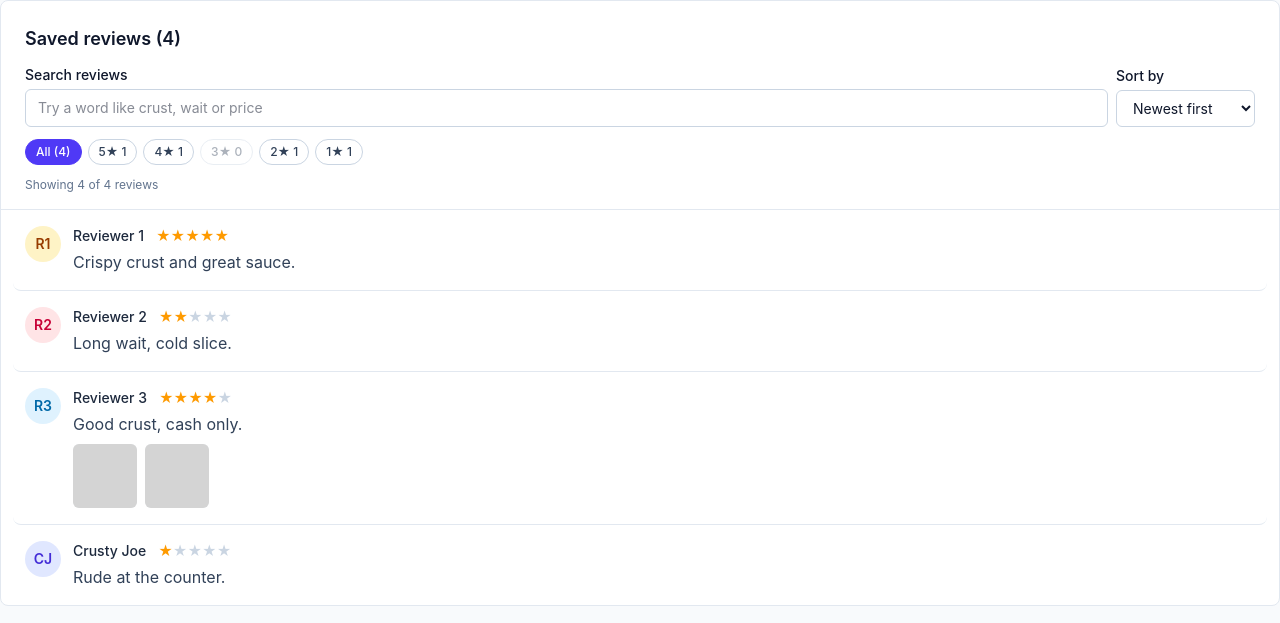
Test: Review explorer › filters by star rating and toggles the filter off
This screenshot has width=1280, height=623.
Check: the text "Showing 4 of 4 reviews" is shown, box [25, 177, 158, 192]
Click the button named "5-star reviews (1)" at point(112, 152), box [88, 139, 138, 165]
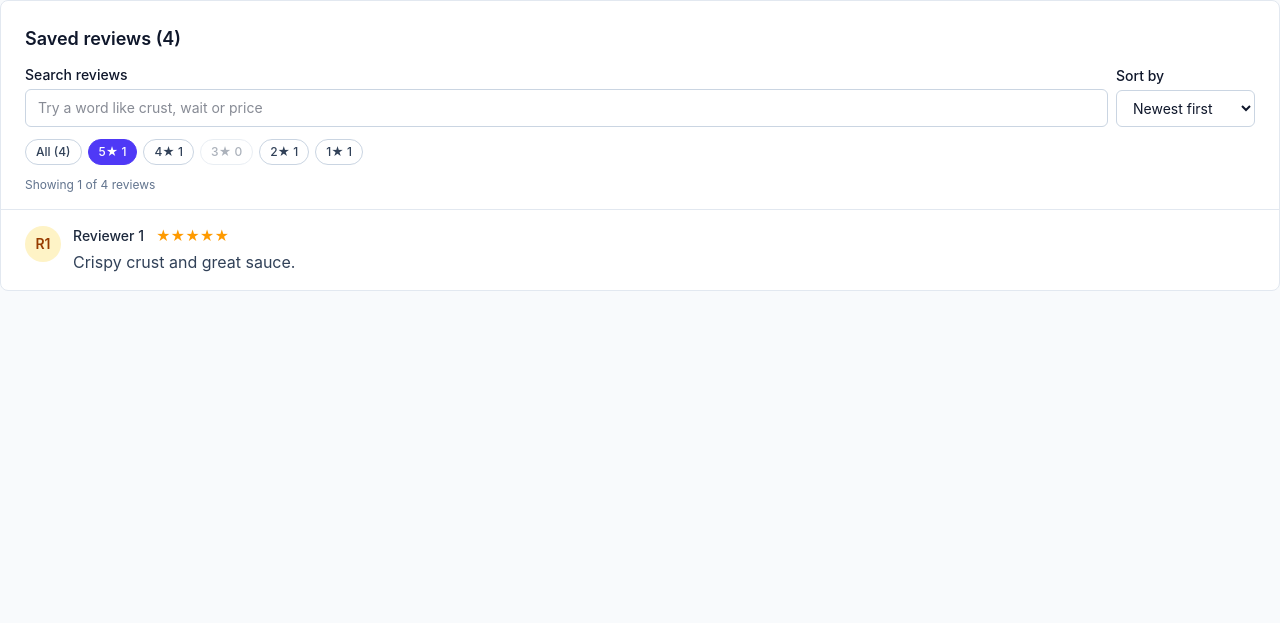
Check: the button named "5-star reviews (1)" is pressed
Click the button named "5-star reviews (1)" at point(112, 152), box [88, 139, 138, 165]
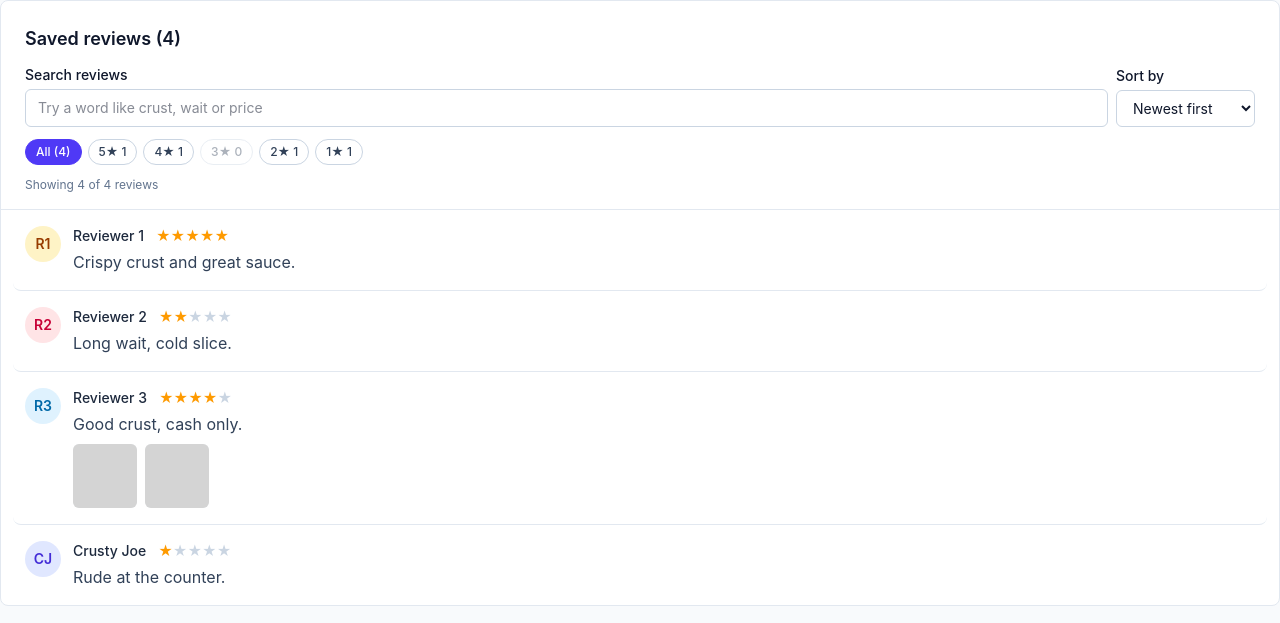
Check: the button named "3-star reviews (0)" is disabled, box [200, 139, 253, 165]
Check: the text "Showing 4 of 4 reviews" is shown, box [25, 177, 158, 192]
Click the button named "2-star reviews (1)" at point(284, 152), box [259, 139, 309, 165]
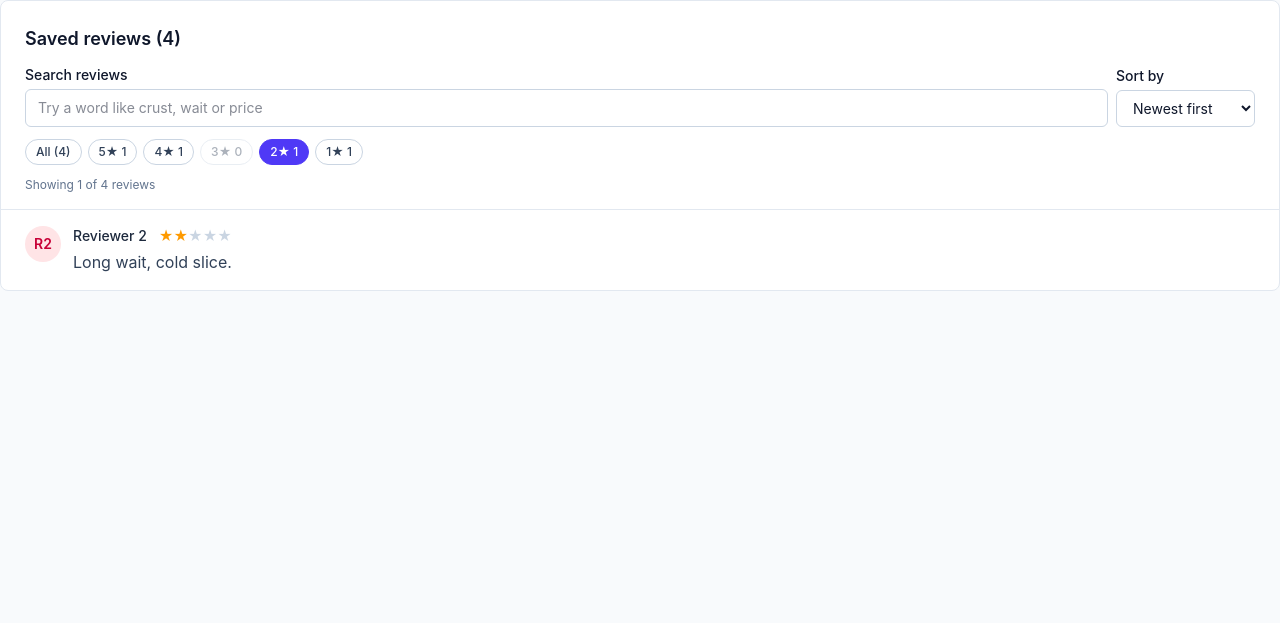
Click the button "All (4)" at point(53, 152), box [25, 139, 82, 165]
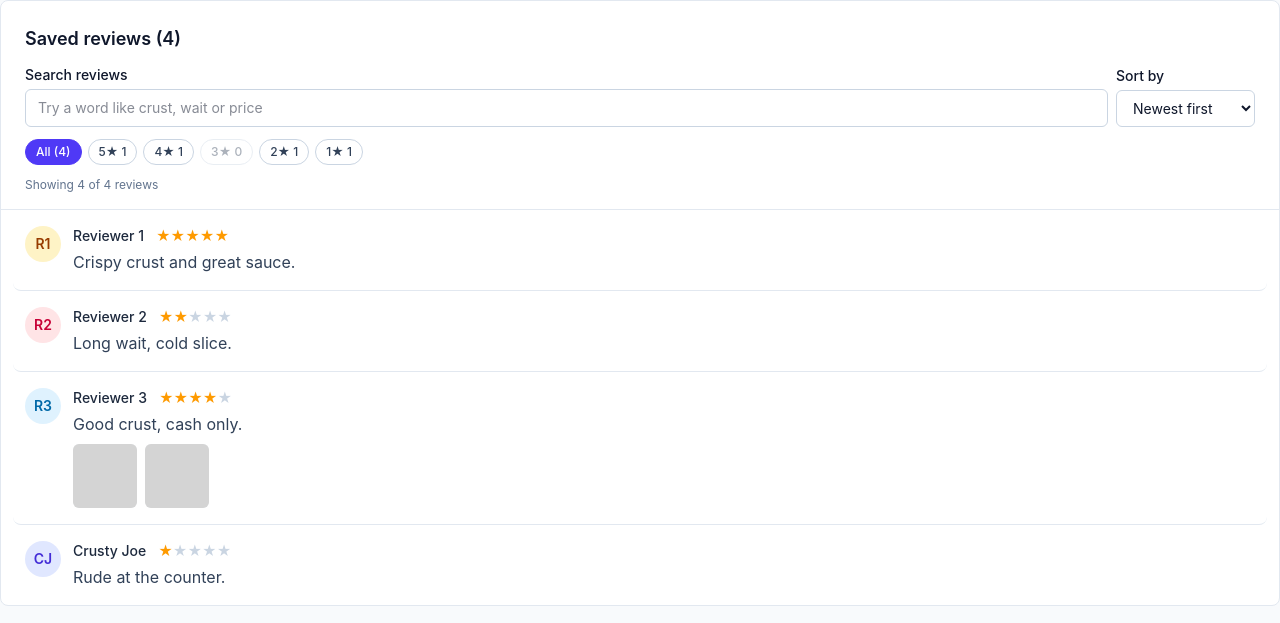
Check: the text "Showing 4 of 4 reviews" is shown, box [25, 177, 158, 192]
